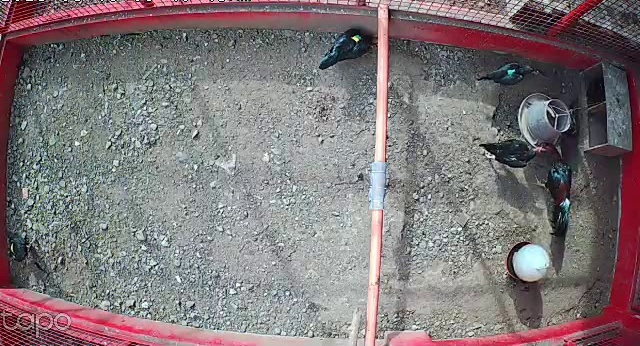Chicken: (474, 132, 542, 174), (317, 25, 373, 74), (474, 57, 544, 94), (550, 99, 585, 160), (2, 230, 36, 264)
Rooster: (533, 140, 580, 239)
Saddle_Color_YellowGreen: (351, 34, 363, 43)
